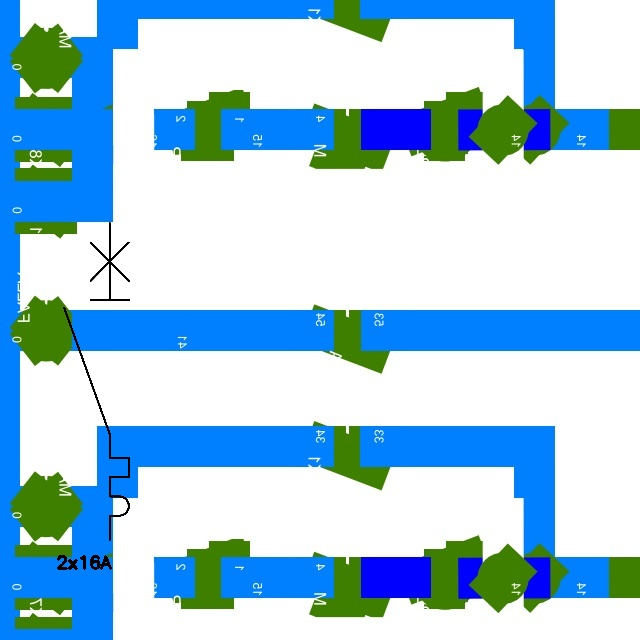interruptor_termomagnetico: (56, 215, 137, 548)
